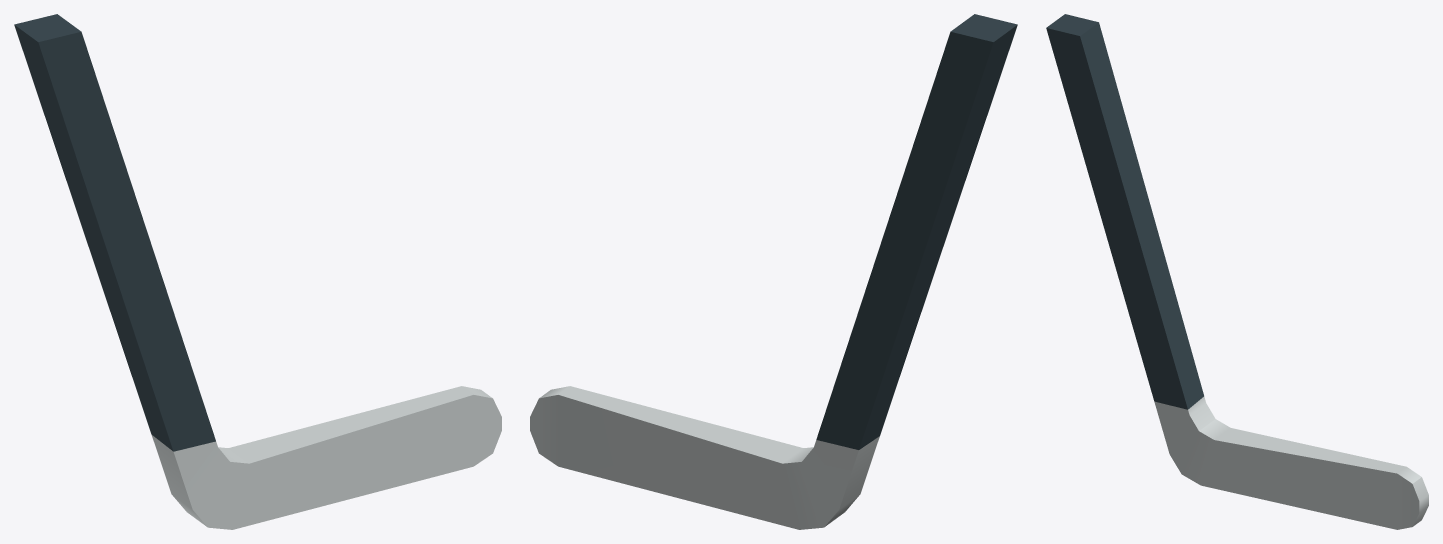
Rendered from hockey_stick.fbx.
3 views of the same model, side by side, from view 1: azimuth 30°, elevation 25°; view 2: azimuth 150°, elevation 25°; view 3: azimuth 330°, elevation 25° (orthographic). The views are drawn at different scales.
Visible parts, largest first — view 1: hockey_stick; view 2: hockey_stick; view 3: hockey_stick.
Part boxes in pixels (x1,y1,x2,y2): hockey_stick: [14, 14, 501, 529]; hockey_stick: [530, 14, 1017, 529]; hockey_stick: [1046, 14, 1428, 529].
Size of the model in its own units: 14.3 by 15.61 by 1.28.
